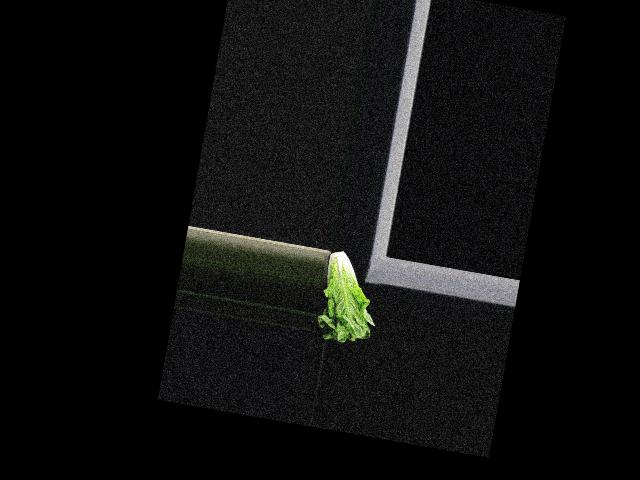lettuce: (313, 248, 386, 349)
